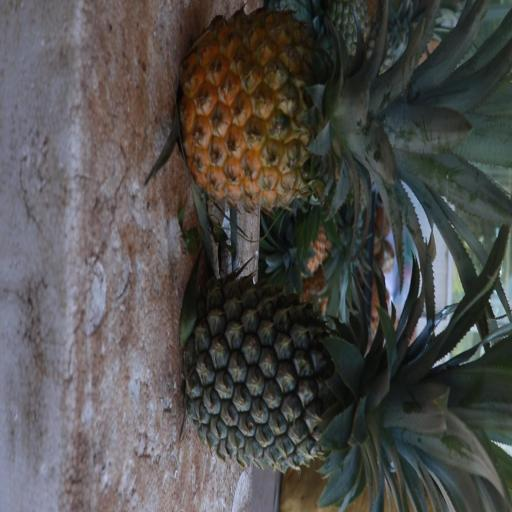Pineapple - v8 v1: (187, 14, 472, 210)
